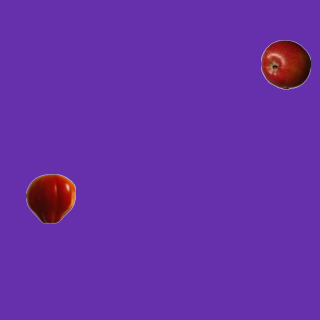Apple Braeburn: (260, 39, 310, 89)
Tomato 1: (25, 173, 75, 223)
